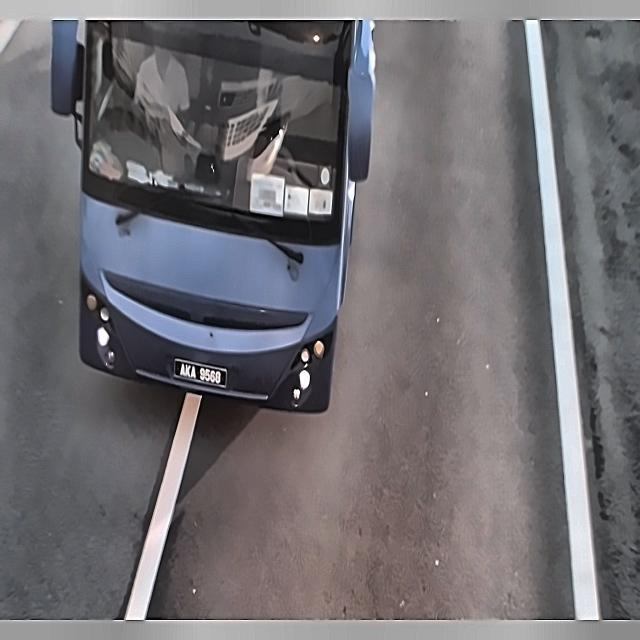car: (168, 351, 229, 394)
